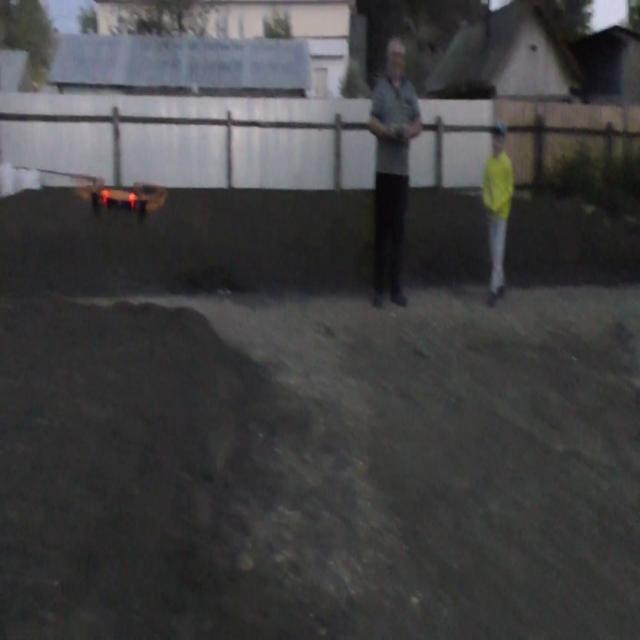Drons: (59, 162, 178, 222)
